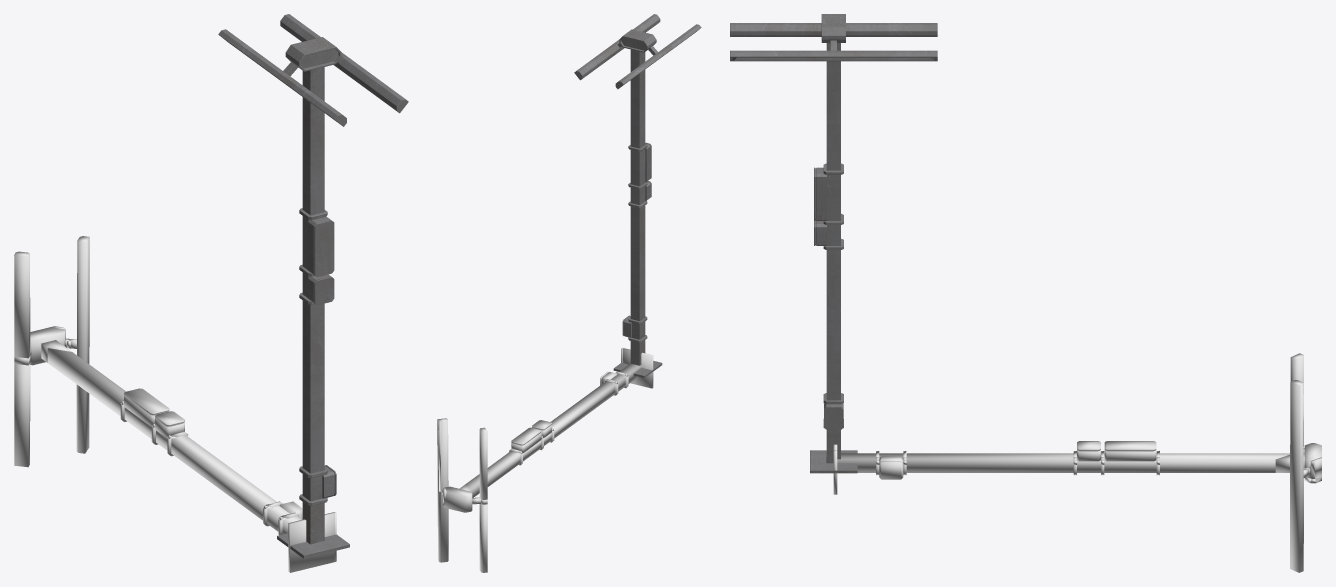
Rendered from SM_Storage_Lamp.fbx.
3 renders of one model, left to right at view 1: azimuth 30°, elevation 25°; view 2: azimuth 150°, elevation 25°; view 3: azimuth 270°, elevation 25°, orthographic. The views are drawn at different scales.
Parts seen in each view (by area): view 1: SM_Storage_Lamp, SM_Storage_Lamp_ConvexHulls; view 2: SM_Storage_Lamp, SM_Storage_Lamp_ConvexHulls; view 3: SM_Storage_Lamp_ConvexHulls, SM_Storage_Lamp.
Part boxes in pixels (x1,y1,x2,y2): SM_Storage_Lamp: [218, 14, 408, 558]; SM_Storage_Lamp_ConvexHulls: [14, 236, 336, 572]; SM_Storage_Lamp: [574, 14, 701, 377]; SM_Storage_Lamp_ConvexHulls: [437, 348, 653, 572]; SM_Storage_Lamp_ConvexHulls: [833, 353, 1321, 572]; SM_Storage_Lamp: [730, 14, 937, 473].
Bounding box in the file's own units: 1.59 × 12.12 × 12.12.
